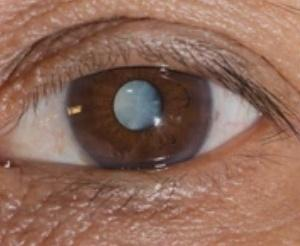eye: (64, 69, 214, 173)
